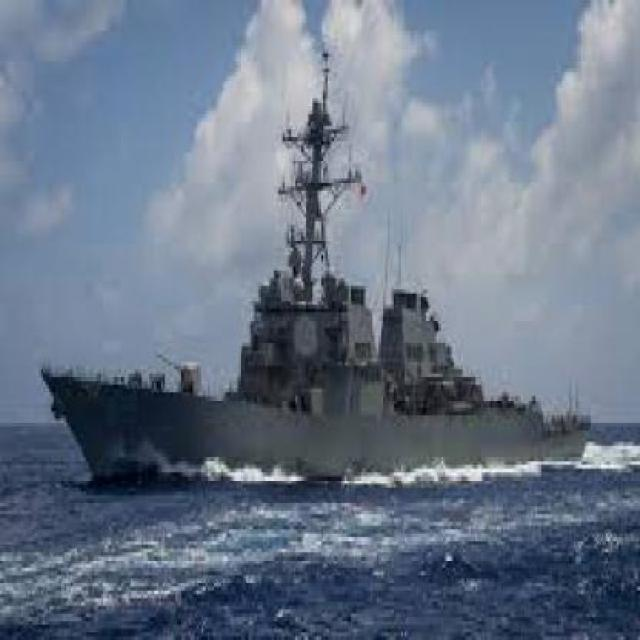warship2: (42, 58, 616, 504)
